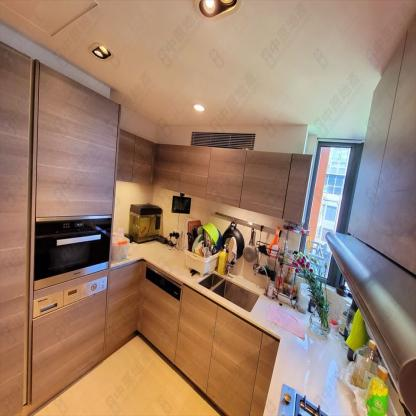Cupboard: (116, 128, 315, 227), (32, 65, 121, 220), (171, 283, 275, 415)
Oven: (34, 218, 113, 291)
Sink: (197, 274, 261, 311)
